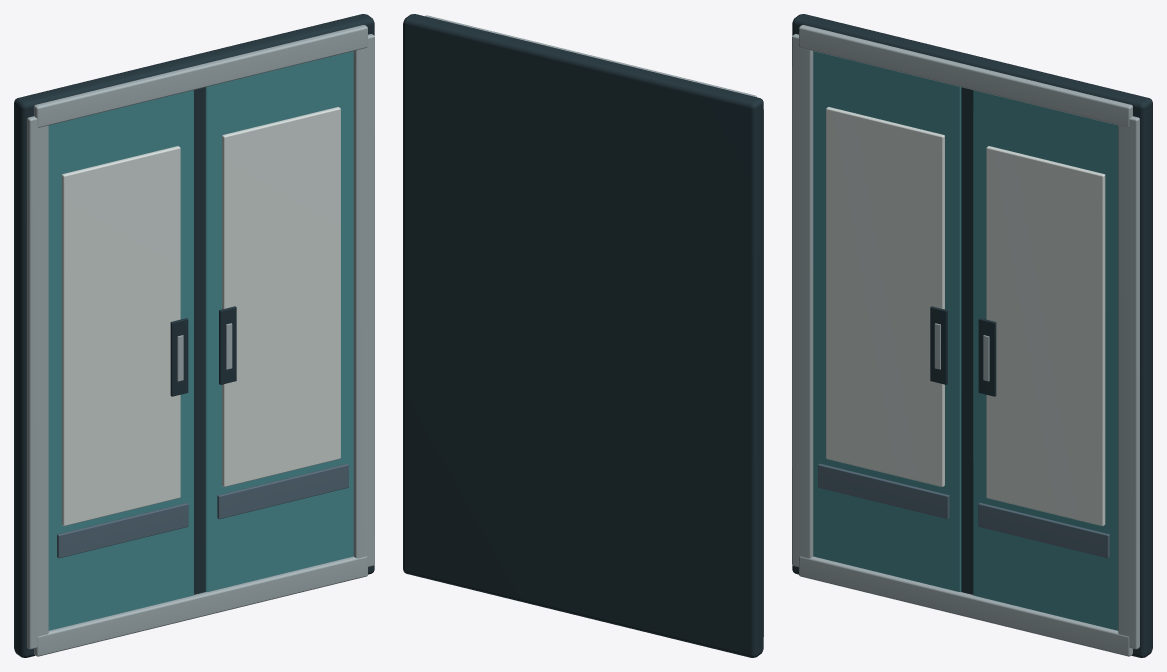
File: nexus-airlock.glb
3 views of the same model, side by side, from view 1: azimuth 30°, elevation 25°; view 2: azimuth 150°, elevation 25°; view 3: azimuth 330°, elevation 25° (orthographic).
Visible parts, largest first — view 1: OB17 / nexus-airlock; view 2: OB17 / nexus-airlock; view 3: OB17 / nexus-airlock.
Part boxes in pixels (<box>): OB17 / nexus-airlock: <box>14,14,374,657</box>; OB17 / nexus-airlock: <box>403,14,763,657</box>; OB17 / nexus-airlock: <box>792,14,1152,657</box>.
Bounding box in the file's own units: 1.9 × 2.85 × 0.151.
